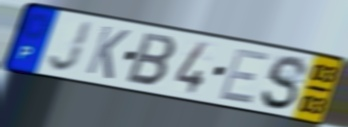4: (173, 39, 209, 96)
B: (123, 30, 179, 89)
E: (216, 47, 273, 107)
J: (46, 18, 95, 74)
K: (83, 23, 132, 82)
S: (258, 54, 310, 113)
